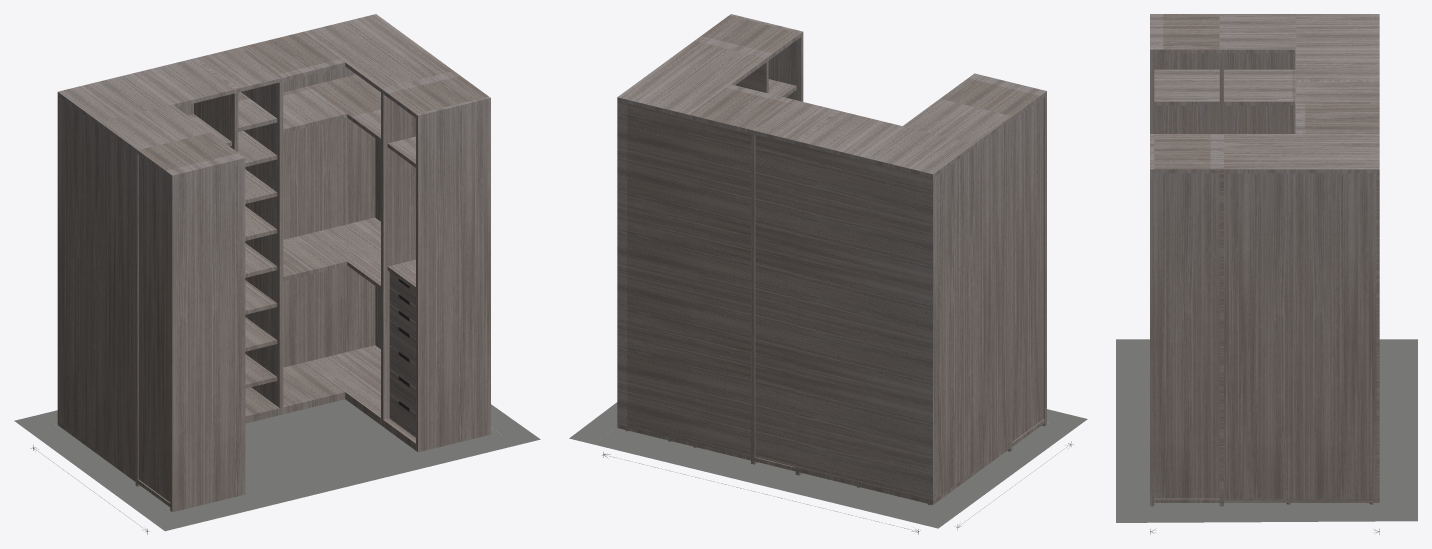
File: B2-CON-COS-D3-PC-SC.obj
3 renders of one model, left to right at view 1: azimuth 30°, elevation 25°; view 2: azimuth 150°, elevation 25°; view 3: azimuth 270°, elevation 25°, orthographic.
Parts seen in each view (by area): view 1: Mesh5 B2_CON_COS_PC_DXF1 Model, Mesh25 B2_CON_COS_PC_DXF1 Model, Mesh2 B2_CON_COS_PC_DXF1 Model, Mesh70 B2_CON_COS_PC_DXF1 Model, Mesh108 B2_CON_COS_PC_DXF1 Model, Mesh6 B2_CON_COS_PC_DXF1 Model, Mesh109 B2_CON_COS_PC_DXF1 Model, Mesh63 B2_CON_COS_PC_DXF1 Model, Mesh86 B2_CON_COS_PC_DXF1 Model, Mesh77 B2_CON_COS_PC_DXF1 Model, Mesh85 B2_CON_COS_PC_DXF1 Model, Mesh76 B2_CON_COS_PC_DXF1 Model (+9 smaller); view 2: Mesh25 B2_CON_COS_PC_DXF1 Model, Mesh70 B2_CON_COS_PC_DXF1 Model, Mesh5 B2_CON_COS_PC_DXF1 Model, Mesh52 B2_CON_COS_PC_DXF1 Model, Mesh6 B2_CON_COS_PC_DXF1 Model, Mesh109 B2_CON_COS_PC_DXF1 Model, Mesh108 B2_CON_COS_PC_DXF1 Model, Mesh2 B2_CON_COS_PC_DXF1 Model, Mesh18 B2_CON_COS_PC_DXF1 Model, Mesh63 B2_CON_COS_PC_DXF1 Model; view 3: Mesh70 B2_CON_COS_PC_DXF1 Model, Mesh5 B2_CON_COS_PC_DXF1 Model, Mesh96 B2_CON_COS_PC_DXF1 Model, Mesh109 B2_CON_COS_PC_DXF1 Model, Mesh108 B2_CON_COS_PC_DXF1 Model, Mesh25 B2_CON_COS_PC_DXF1 Model, Mesh6 B2_CON_COS_PC_DXF1 Model, Mesh31 B2_CON_COS_PC_DXF1 Model, Mesh10 B2_CON_COS_PC_DXF1 Model, Mesh63 B2_CON_COS_PC_DXF1 Model, Mesh2 B2_CON_COS_PC_DXF1 Model.
Boxes of the visible parts, <box> form: Mesh5 B2_CON_COS_PC_DXF1 Model: <box>57,14,490,506</box>; Mesh25 B2_CON_COS_PC_DXF1 Model: <box>57,96,193,477</box>; Mesh2 B2_CON_COS_PC_DXF1 Model: <box>170,156,245,512</box>; Mesh70 B2_CON_COS_PC_DXF1 Model: <box>283,66,380,367</box>; Mesh108 B2_CON_COS_PC_DXF1 Model: <box>53,399,501,514</box>; Mesh6 B2_CON_COS_PC_DXF1 Model: <box>138,155,170,502</box>; Mesh109 B2_CON_COS_PC_DXF1 Model: <box>14,404,540,531</box>; Mesh63 B2_CON_COS_PC_DXF1 Model: <box>283,345,380,417</box>; Mesh86 B2_CON_COS_PC_DXF1 Model: <box>309,217,380,289</box>; Mesh77 B2_CON_COS_PC_DXF1 Model: <box>309,74,380,141</box>; Mesh85 B2_CON_COS_PC_DXF1 Model: <box>283,234,347,280</box>; Mesh76 B2_CON_COS_PC_DXF1 Model: <box>283,86,347,133</box>; Mesh25 B2_CON_COS_PC_DXF1 Model: <box>799,122,1010,500</box>; Mesh70 B2_CON_COS_PC_DXF1 Model: <box>617,101,750,456</box>; Mesh5 B2_CON_COS_PC_DXF1 Model: <box>617,14,1044,475</box>; Mesh52 B2_CON_COS_PC_DXF1 Model: <box>755,135,795,466</box>; Mesh6 B2_CON_COS_PC_DXF1 Model: <box>1012,97,1043,441</box>; Mesh109 B2_CON_COS_PC_DXF1 Model: <box>569,402,1087,528</box>; Mesh108 B2_CON_COS_PC_DXF1 Model: <box>607,423,1049,512</box>; Mesh2 B2_CON_COS_PC_DXF1 Model: <box>973,73,1046,426</box>; Mesh18 B2_CON_COS_PC_DXF1 Model: <box>799,445,1010,504</box>; Mesh63 B2_CON_COS_PC_DXF1 Model: <box>617,424,750,460</box>; Mesh70 B2_CON_COS_PC_DXF1 Model: <box>1224,173,1379,499</box>; Mesh5 B2_CON_COS_PC_DXF1 Model: <box>1150,14,1379,506</box>; Mesh96 B2_CON_COS_PC_DXF1 Model: <box>1154,173,1219,498</box>; Mesh109 B2_CON_COS_PC_DXF1 Model: <box>1116,339,1417,522</box>; Mesh108 B2_CON_COS_PC_DXF1 Model: <box>1144,351,1389,510</box>; Mesh25 B2_CON_COS_PC_DXF1 Model: <box>1224,53,1295,133</box>; Mesh6 B2_CON_COS_PC_DXF1 Model: <box>1154,53,1219,133</box>; Mesh31 B2_CON_COS_PC_DXF1 Model: <box>1224,69,1295,105</box>; Mesh10 B2_CON_COS_PC_DXF1 Model: <box>1154,69,1219,105</box>; Mesh63 B2_CON_COS_PC_DXF1 Model: <box>1224,499,1379,502</box>; Mesh2 B2_CON_COS_PC_DXF1 Model: <box>1150,14,1154,133</box>.
Bounding box in the file's own units: 122 × 109 × 84.02.
4 materials, 1 textured.
